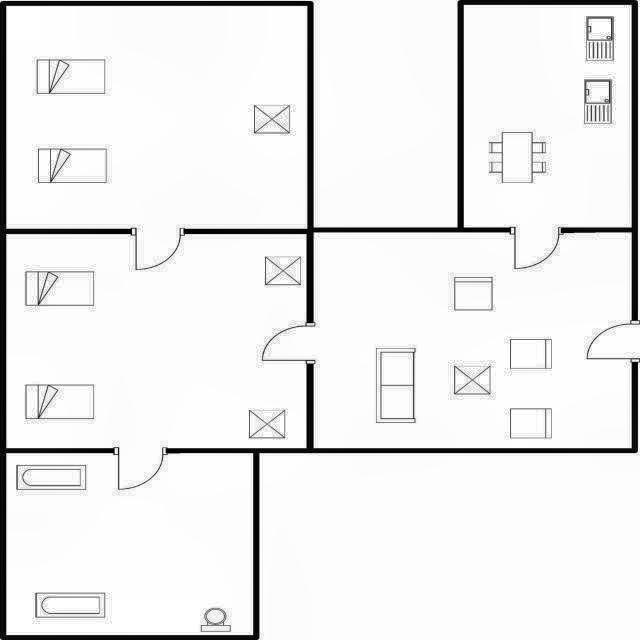room: (314, 232, 632, 448), (6, 6, 307, 229), (6, 234, 307, 448), (6, 453, 253, 635), (464, 5, 632, 228)
